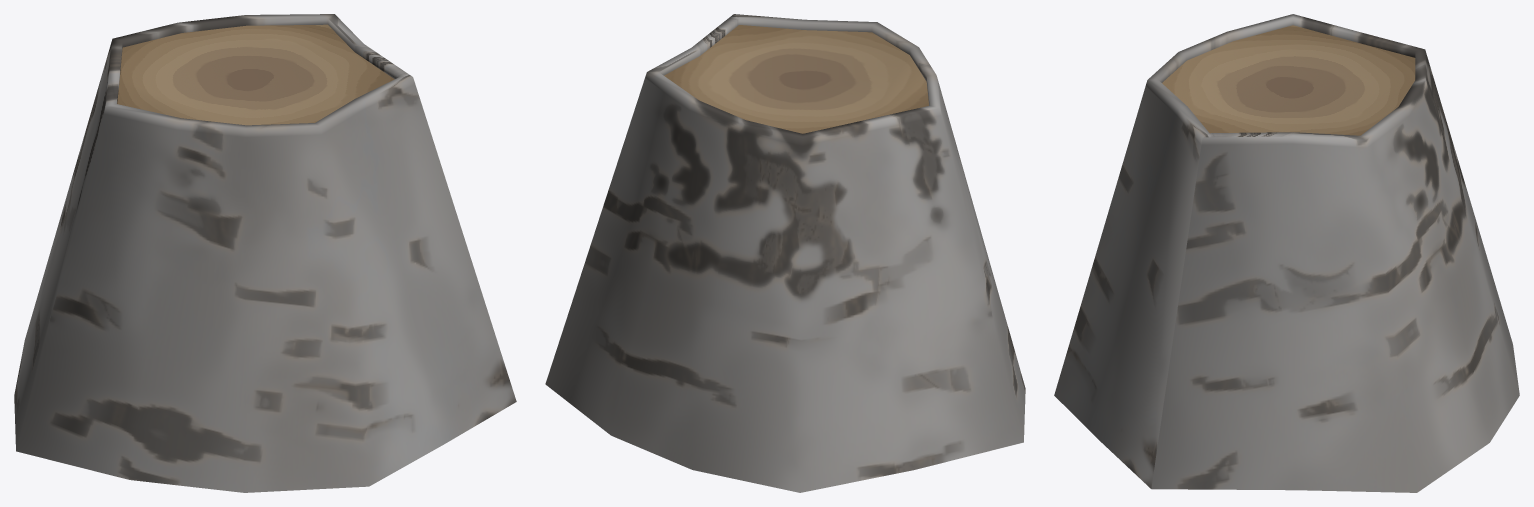
The model's file is tree03_trunk.fbx.
3 views of the same model, side by side, from view 1: azimuth 30°, elevation 25°; view 2: azimuth 150°, elevation 25°; view 3: azimuth 270°, elevation 25° (orthographic). The views are drawn at different scales.
Visible parts, largest first — view 1: Cylinder.002; view 2: Cylinder.002; view 3: Cylinder.002.
Boxes of the visible parts, left/top/right/bottom form: Cylinder.002: left=14, top=14, right=516, bottom=492; Cylinder.002: left=545, top=14, right=1025, bottom=492; Cylinder.002: left=1054, top=14, right=1519, bottom=492.
Bounding box in the file's own units: 45.07 × 32.19 × 43.08.
